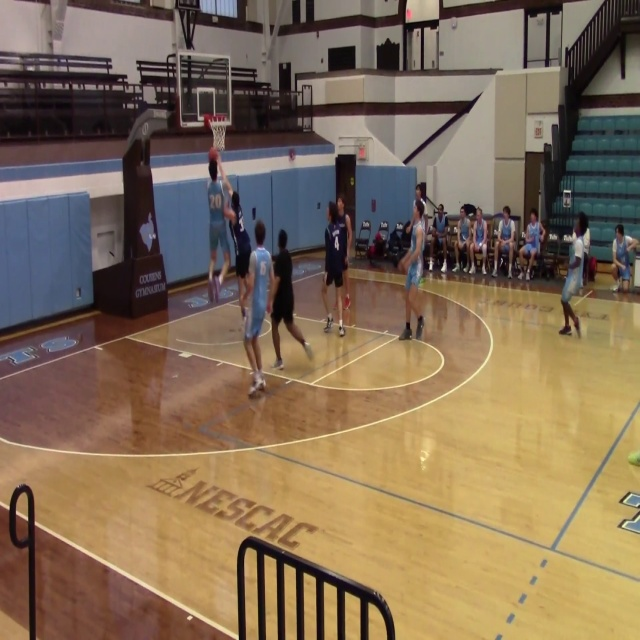Basketball: (627, 450, 640, 466), (208, 147, 218, 161), (288, 149, 295, 161)
